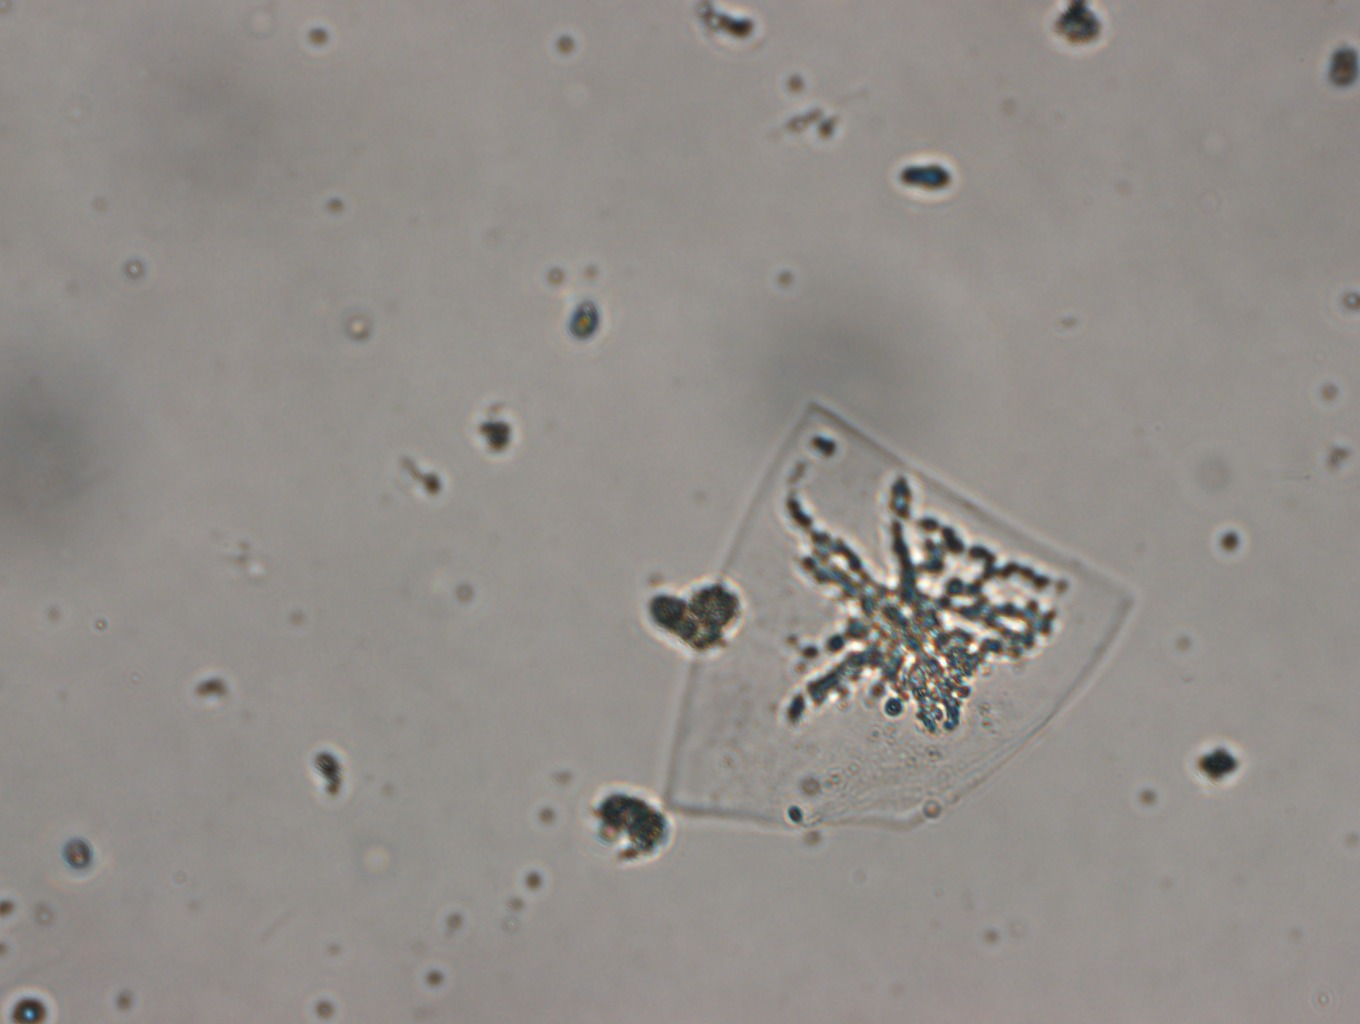helicotheca: (647, 392, 1148, 831)
